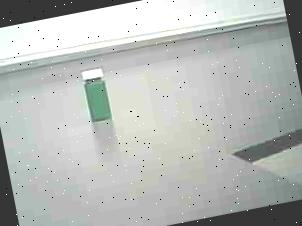Bottle C: (70, 58, 124, 133)
